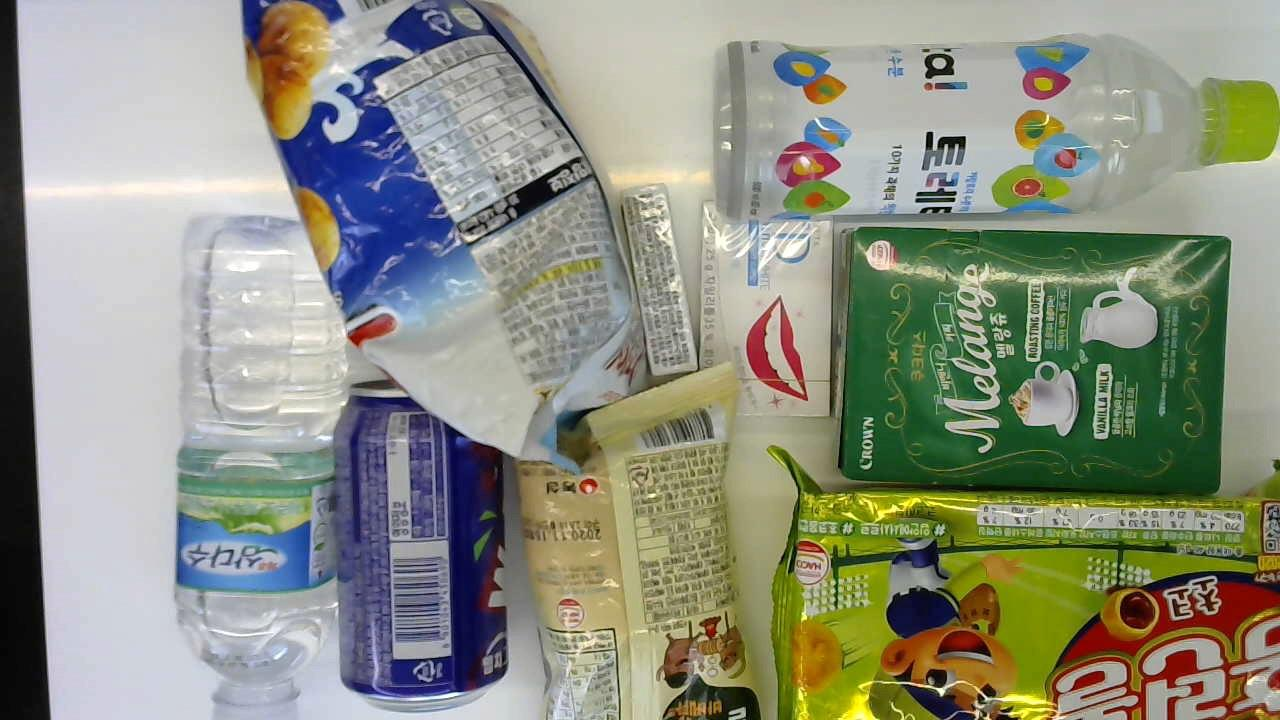ID_gum: (701, 204, 828, 420)
couque_coffee: (835, 228, 1237, 492)
homerunball: (769, 482, 1280, 720)
jjolbyung_ori: (512, 361, 743, 720)
samdasu: (174, 211, 341, 720)
spearmint: (622, 185, 698, 376)
squid_peanut: (240, 0, 649, 475)
toreta: (710, 37, 1280, 217)
welchs: (334, 377, 507, 711)
